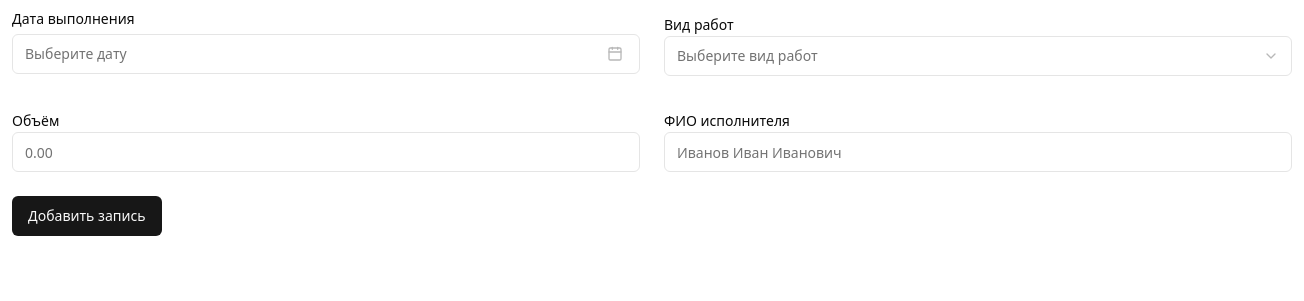
WorkLogForm › Валидация › показывает ошибки при отправке пустой формы
Click the button "Добавить запись" at point(87, 216), box [12,196,162,236]
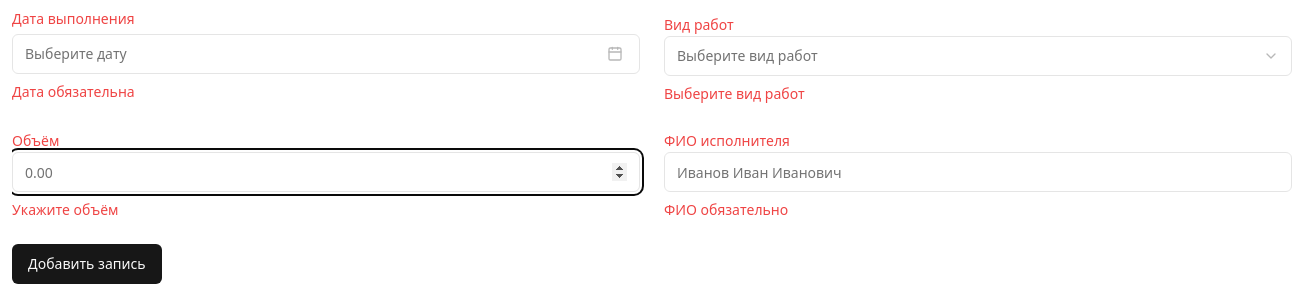
Now the text "Дата обязательна" is shown, box [12,82,135,101]
Now the text "ФИО обязательно" is shown, box [664,200,788,219]
